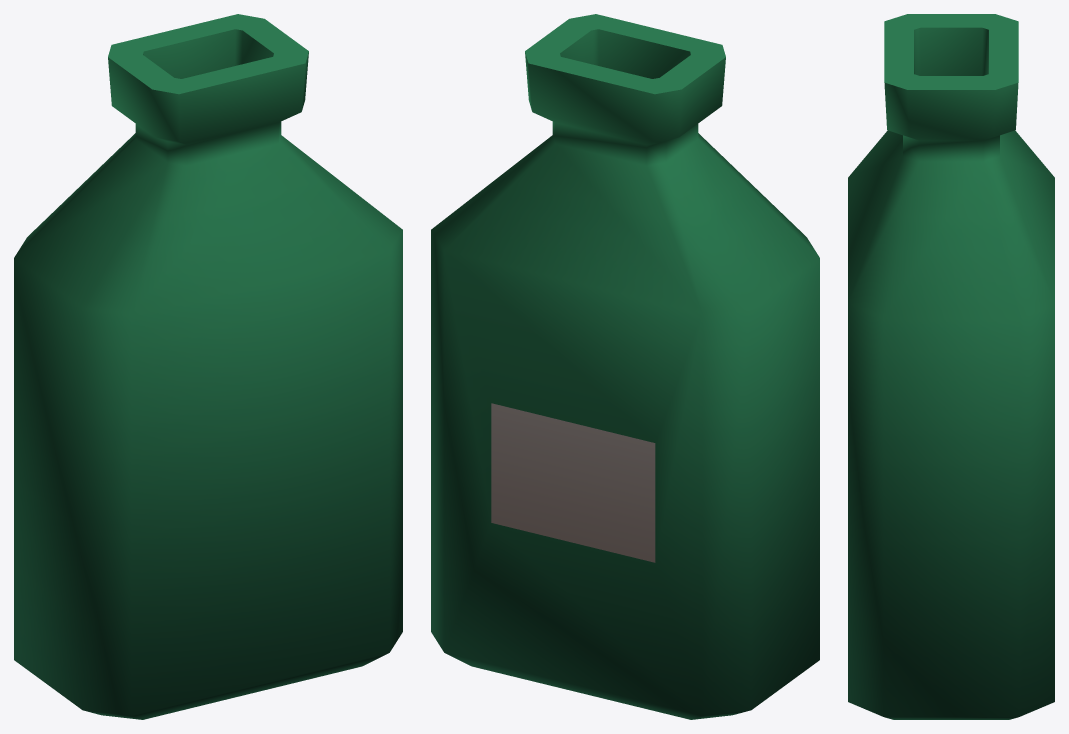
Rendered from PotionBottleOpaque6.fbx.
The picture shows the model from 3 angles, left to right: view 1: azimuth 30°, elevation 25°; view 2: azimuth 150°, elevation 25°; view 3: azimuth 270°, elevation 25°; orthographic projection.
Visible parts, largest first — view 1: PotionBottleOpaque6; view 2: PotionBottleOpaque6; view 3: PotionBottleOpaque6.
Boxes of the visible parts, x1,y1,x2,y2 form: PotionBottleOpaque6: (14, 14, 402, 719); PotionBottleOpaque6: (431, 14, 819, 719); PotionBottleOpaque6: (848, 14, 1054, 719).
Size of the model in its own units: 7.55 by 13.67 by 4.25.
